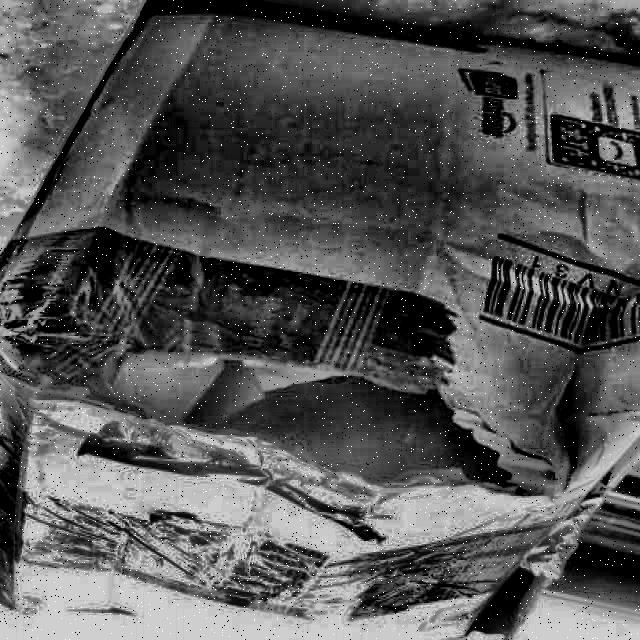box: (1, 1, 640, 634)
hole: (175, 346, 518, 504)
